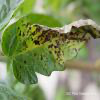Tomato Septoria leaf spot: (1, 11, 99, 86)
